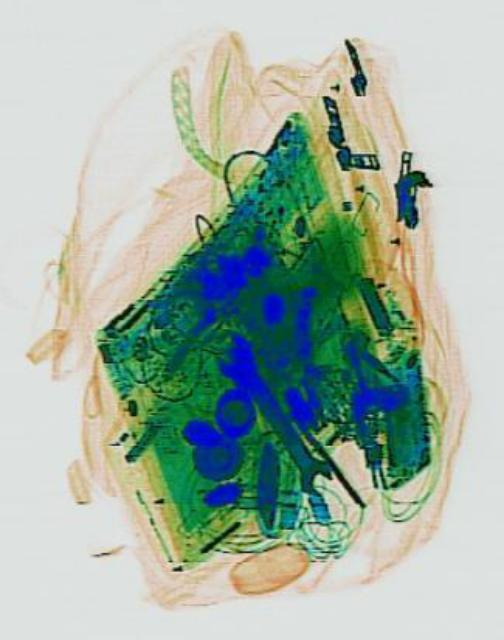Wrench: (206, 330, 338, 502)
